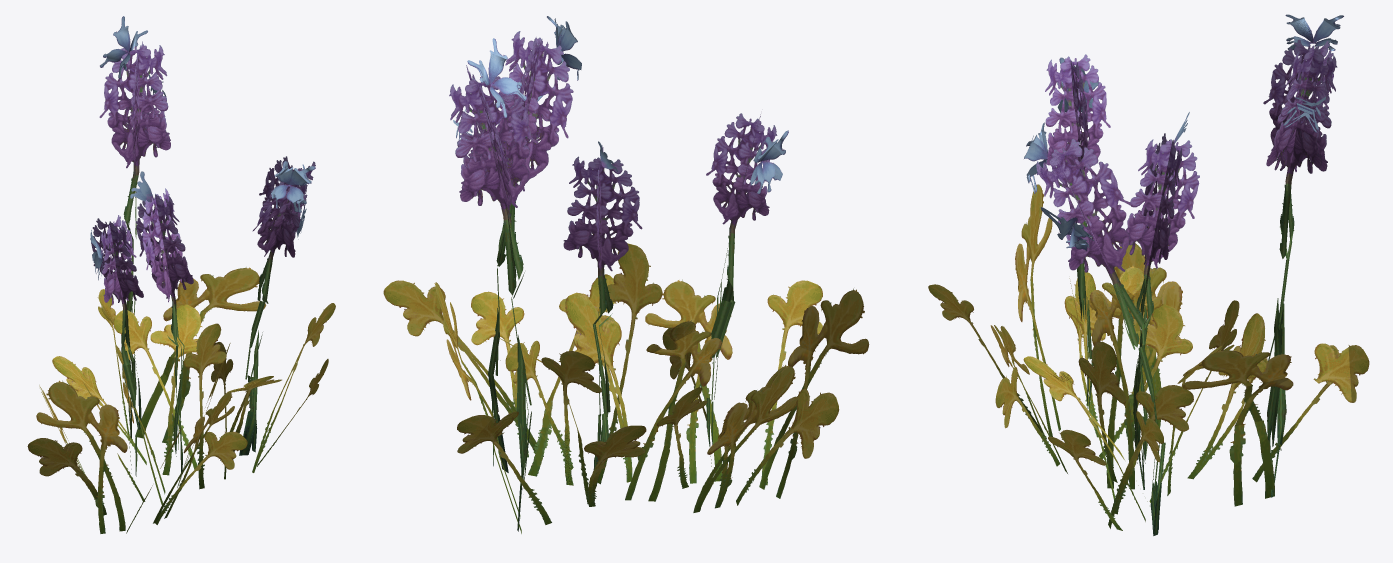
Rendered from plant_lobbynew02_zhiwu_hua003.FBX.
3 views of the same model, side by side, from view 1: azimuth 30°, elevation 25°; view 2: azimuth 150°, elevation 25°; view 3: azimuth 270°, elevation 25° (orthographic). The views are drawn at different scales.
Visible parts, largest first — view 1: plant_lobbynew02_zhiwu_hua003; view 2: plant_lobbynew02_zhiwu_hua003; view 3: plant_lobbynew02_zhiwu_hua003.
Part boxes in pixels (x1,y1,x2,y2): plant_lobbynew02_zhiwu_hua003: [27, 16, 335, 533]; plant_lobbynew02_zhiwu_hua003: [383, 16, 869, 533]; plant_lobbynew02_zhiwu_hua003: [928, 14, 1369, 535].
Size of the model in its own units: 133 by 117 by 144.
